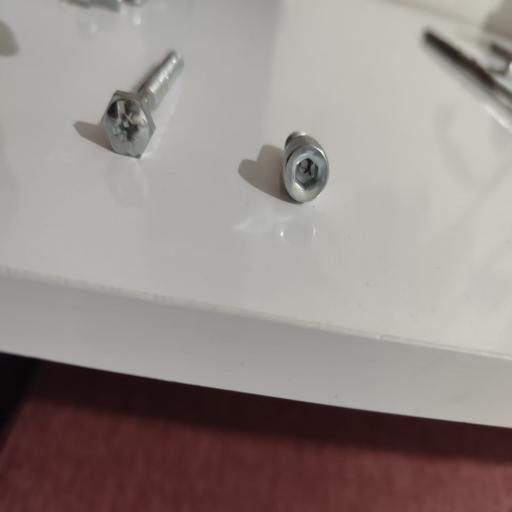Hex-Allen: (279, 135, 332, 204)
Pozidriv: (100, 85, 157, 159)
